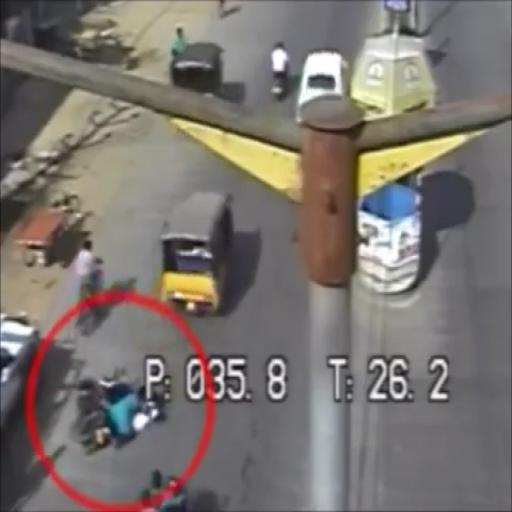小汽车: (359, 32, 429, 288), (148, 188, 244, 320), (304, 38, 346, 130)
小汽车撞自行车: (70, 358, 182, 464)
自行车: (70, 248, 116, 330), (267, 36, 294, 109)
